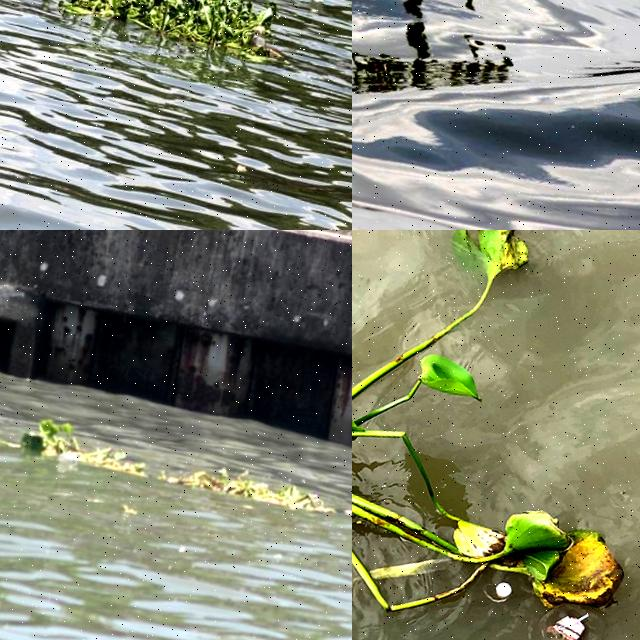water-hyacinth: (353, 231, 640, 640), (47, 1, 283, 74), (179, 459, 328, 513), (11, 406, 93, 468), (83, 444, 151, 482)
